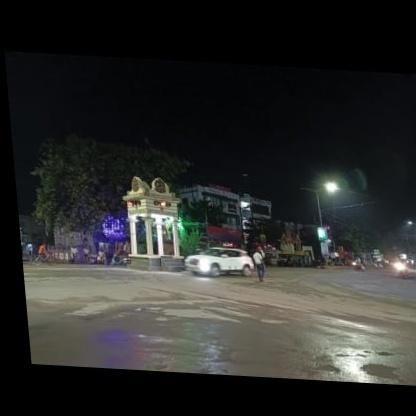Bicycle: (32, 251, 59, 271)
